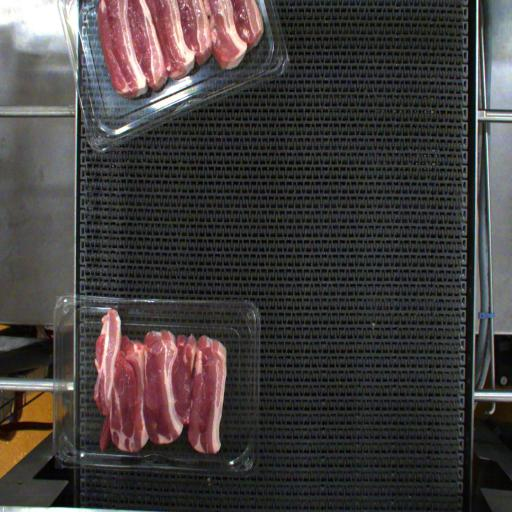packaging-error: (99, 294, 126, 322)
